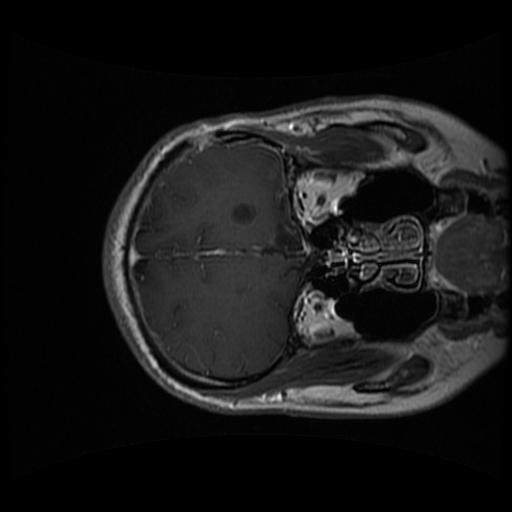glioma: (226, 200, 256, 228)
